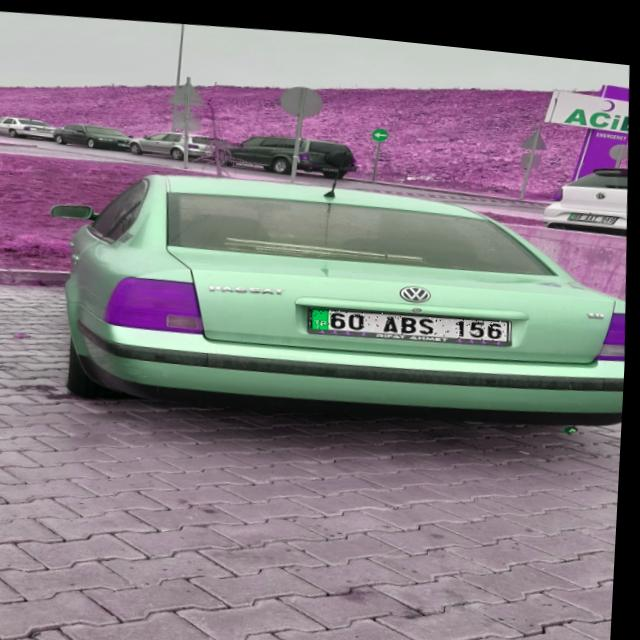license_plate: (310, 293, 512, 337)
